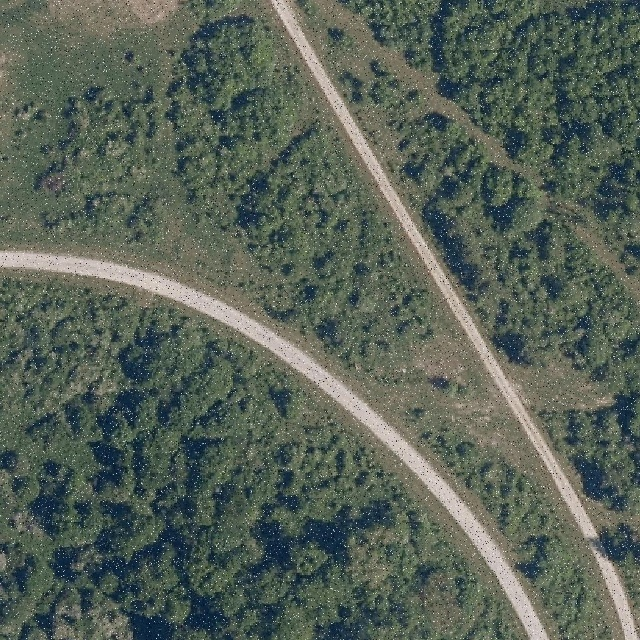vegetation: (34, 15, 611, 640), (0, 285, 521, 640), (342, 58, 640, 513), (339, 0, 640, 286), (610, 529, 640, 604)
